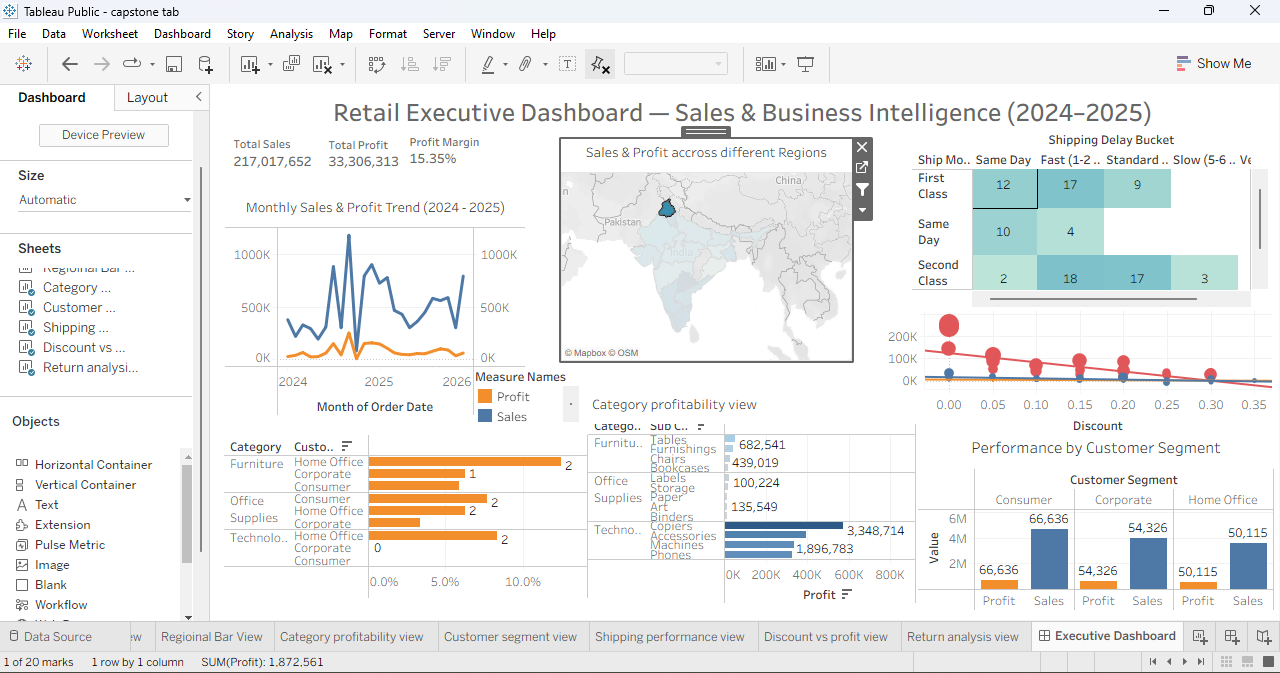

The page's visual inventory and layout, read from the dashboard file:
{"tool":"tableau","page":{"name":"Executive Dashboard","canvas":[1000,1000],"units":"permille","ordinal":0},"visuals":[{"type":"text","box":[14,24.2,968.2,54.1]},{"type":"worksheet","title":"Shipping performance view","mark":"Square","rows":["ship_mode"],"cols":["Calculation_0904363273420804"],"box":[656.7,84,333,332.1]},{"type":"text","box":[184.3,93.3,93.5,61.6]},{"type":"text","box":[19.6,95.2,93.5,65.3]},{"type":"text","box":[108.5,98.9,93.5,61.6]},{"type":"worksheet","title":"Regional performance view","mark":"Multipolygon","box":[328.3,102.6,272.2,414.2]},{"type":"worksheet","title":"Sales Trend View","mark":"Line","rows":["sales","profit"],"cols":["order_date"],"box":[14,205.2,281.6,414.2]},{"type":"worksheet","title":"Discount vs profit view","mark":"Circle","rows":["profit"],"cols":["discount"],"box":[623,423.5,370.4,229.5]},{"type":"legend","title":"Sales Trend View","param":"[federated.1yq67o31v6uc2t1d19dpt17ntpnu].[:Measure Names]","box":[247.9,529.9,99.2,100.8]},{"type":"worksheet","title":"Category profitability view","mark":"Automatic","rows":["category","sub_category"],"cols":["profit"],"box":[353.6,572.8,306.8,397.4]},{"type":"worksheet","title":"Customer segment view","mark":"Bar","cols":["customer_segment"],"box":[662.3,651.1,333,332.1]},{"type":"worksheet","title":"Return analysis view","mark":"Automatic","rows":["category","customer_segment"],"cols":["Calculation_0145150570065921"],"box":[13.1,654.9,340.5,306]}]}

Visuals, with their boxes on the dashboard's canvas, which has no fixed pixel size, in thousandths of its width and height (x1, y1, x2, y2). These are canvas units, not pixel positions in the 1280x673 screenshot, which may show the page scaled, cropped or inside an application window:
text: region(14, 24, 982, 78)
"Shipping performance view" worksheet (Square marks): region(657, 84, 990, 416)
text: region(184, 93, 278, 155)
text: region(20, 95, 113, 160)
text: region(108, 99, 202, 160)
"Regional performance view" worksheet (Multipolygon marks): region(328, 103, 600, 517)
"Sales Trend View" worksheet (Line marks): region(14, 205, 296, 619)
"Discount vs profit view" worksheet (Circle marks): region(623, 424, 993, 653)
"Sales Trend View" legend: region(248, 530, 347, 631)
"Category profitability view" worksheet: region(354, 573, 660, 970)
"Customer segment view" worksheet (Bar marks): region(662, 651, 995, 983)
"Return analysis view" worksheet: region(13, 655, 354, 961)
